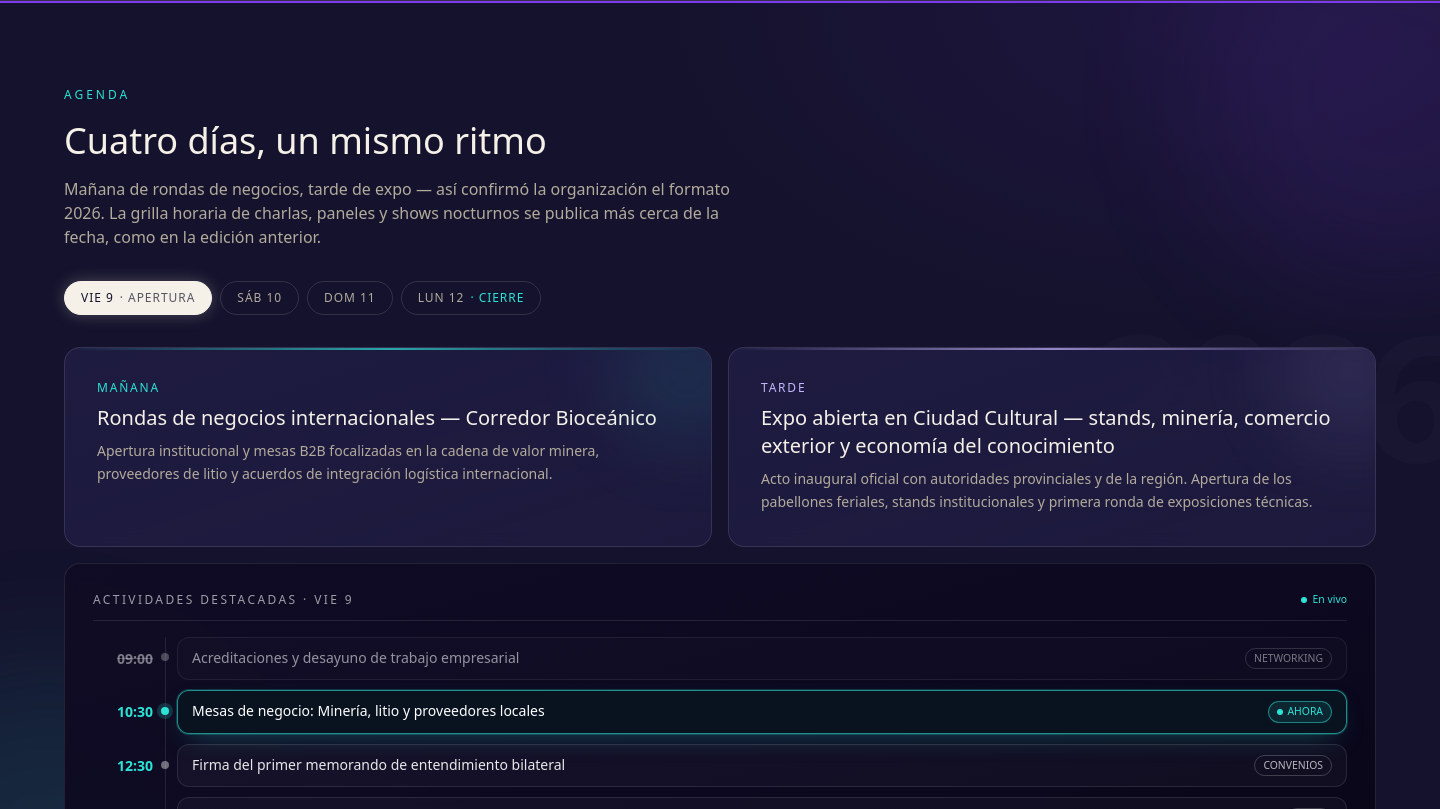
it: ProgramSection › cambia el día activo al elegir otro tab
This screenshot has width=1440, height=809.
Click the tab "Lun 12· Cierre".
click(471, 298)  # box [401,281,541,315]
(page scrolled)
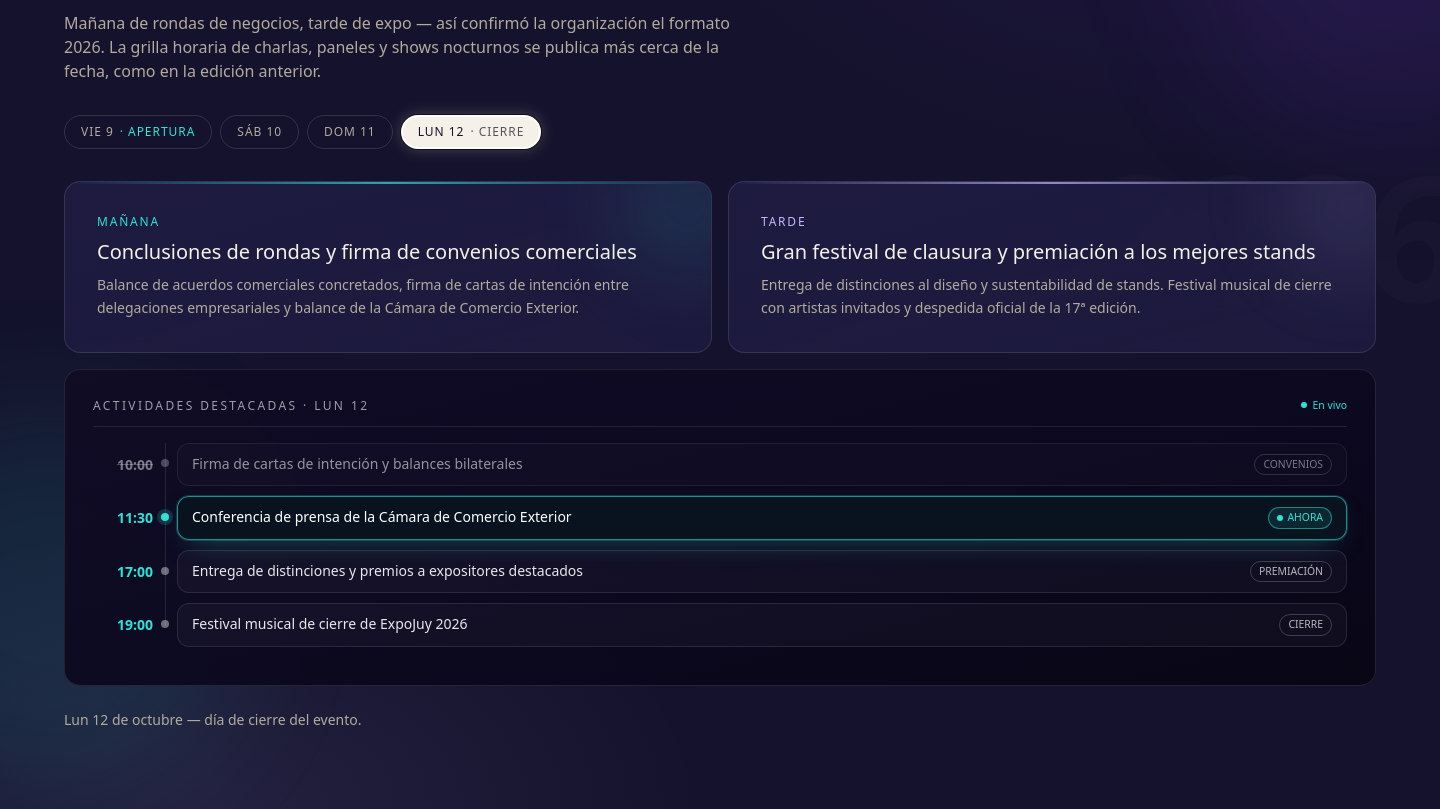
expect the text "Lun 12 de octubre — día de cierre del evento." is shown: met, box [64,710,362,729]
